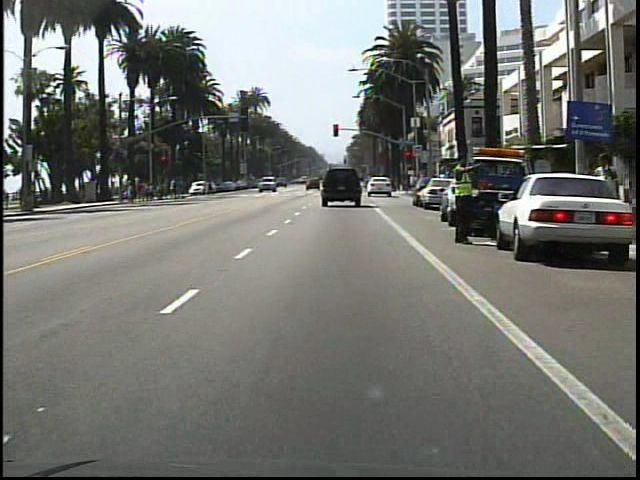person: (584, 147, 619, 243), (450, 148, 479, 251), (200, 174, 219, 203)
